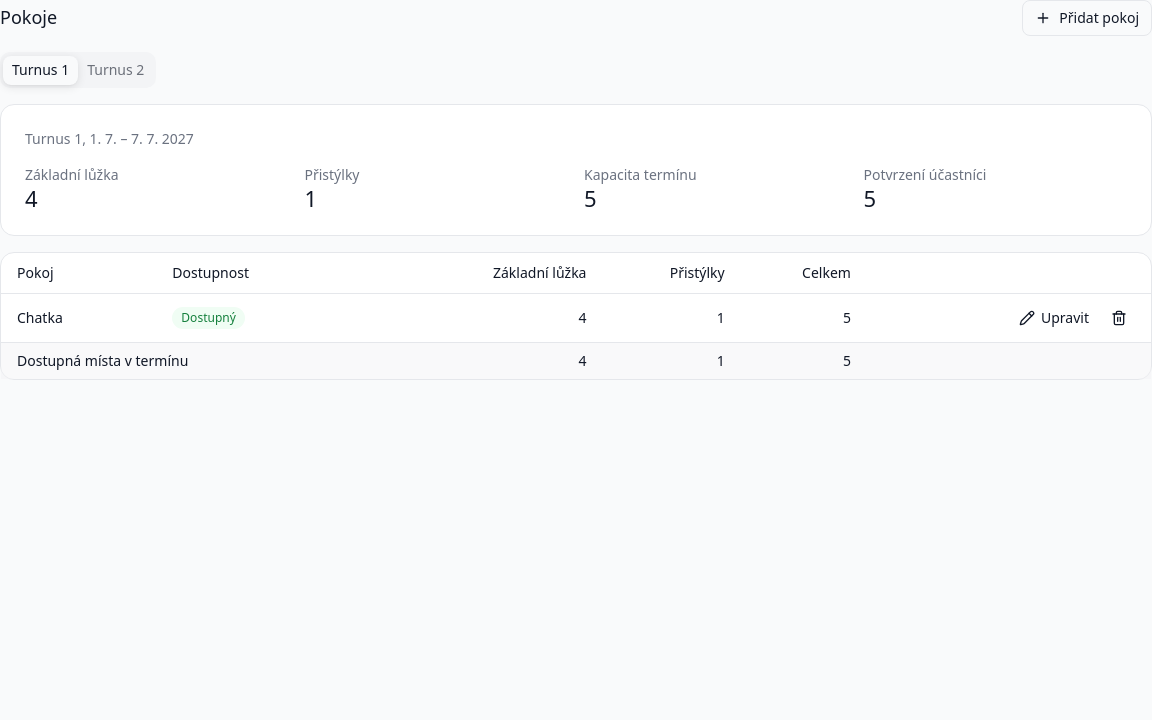
it: RoomsSection › keeps the picked term after a room is saved
Click the tab "Turnus 2" at (116, 70), box [78,56,153,84]
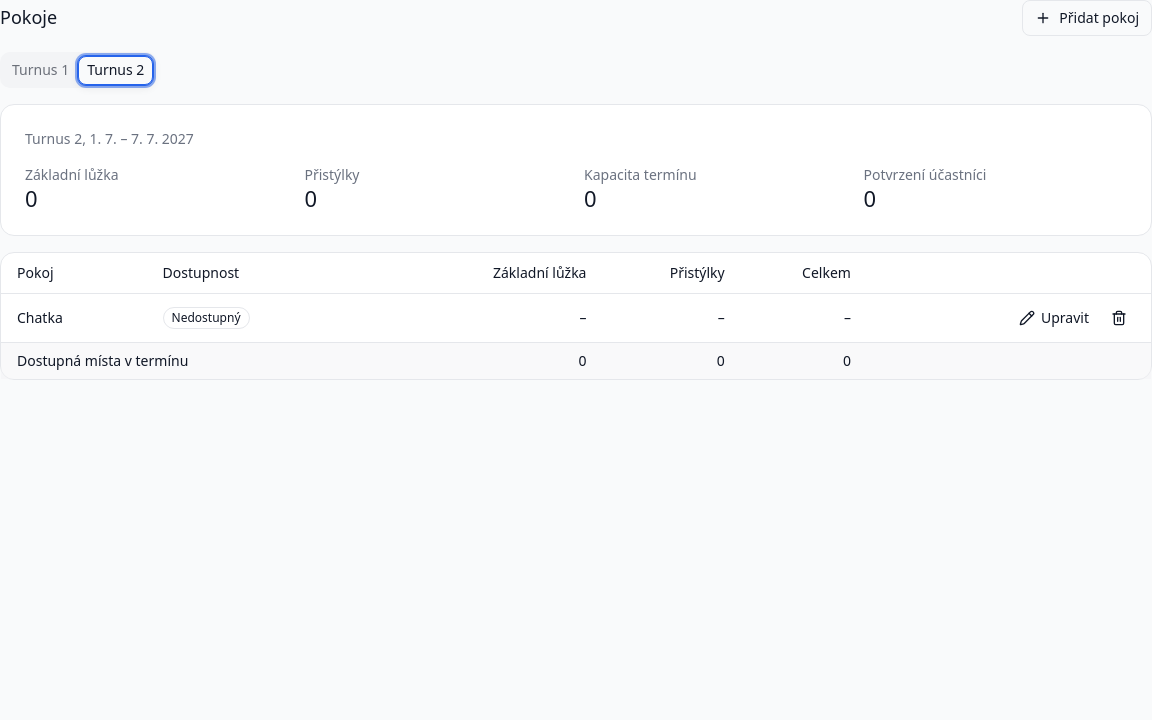
Click the button with aria-label "Upravit pokoj Chatka" at (1054, 318), box [1009,302,1099,334]
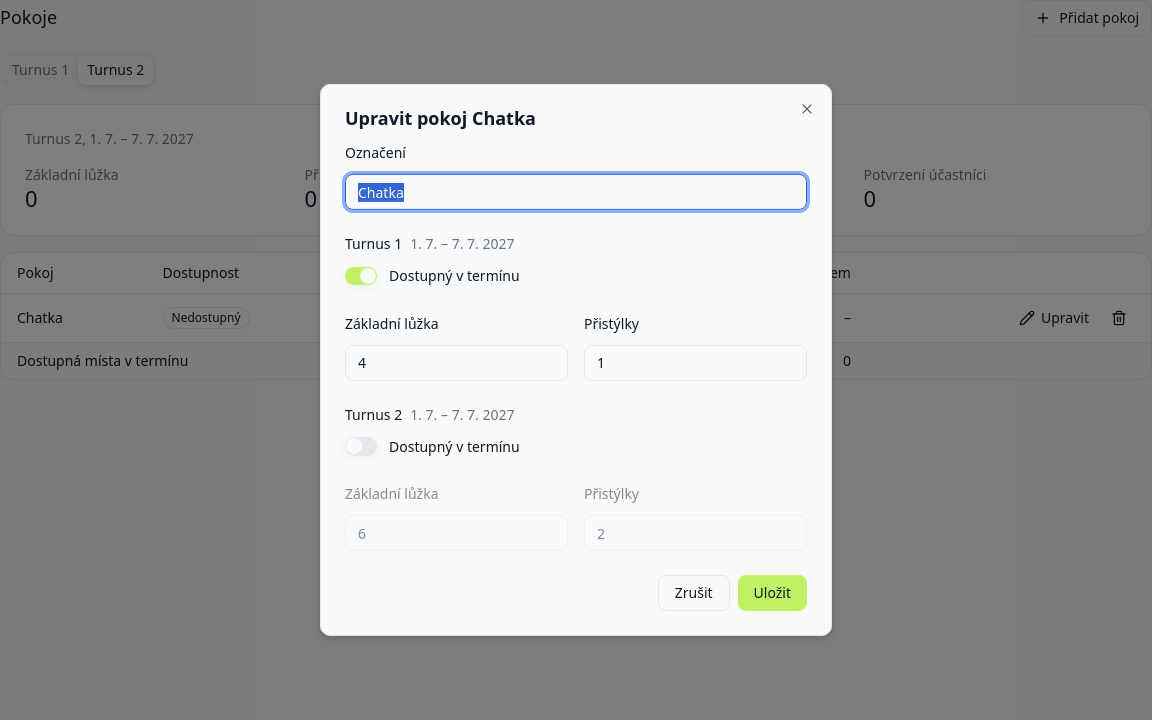
Click the button "Uložit" at (772, 593), box [738,575,807,611]
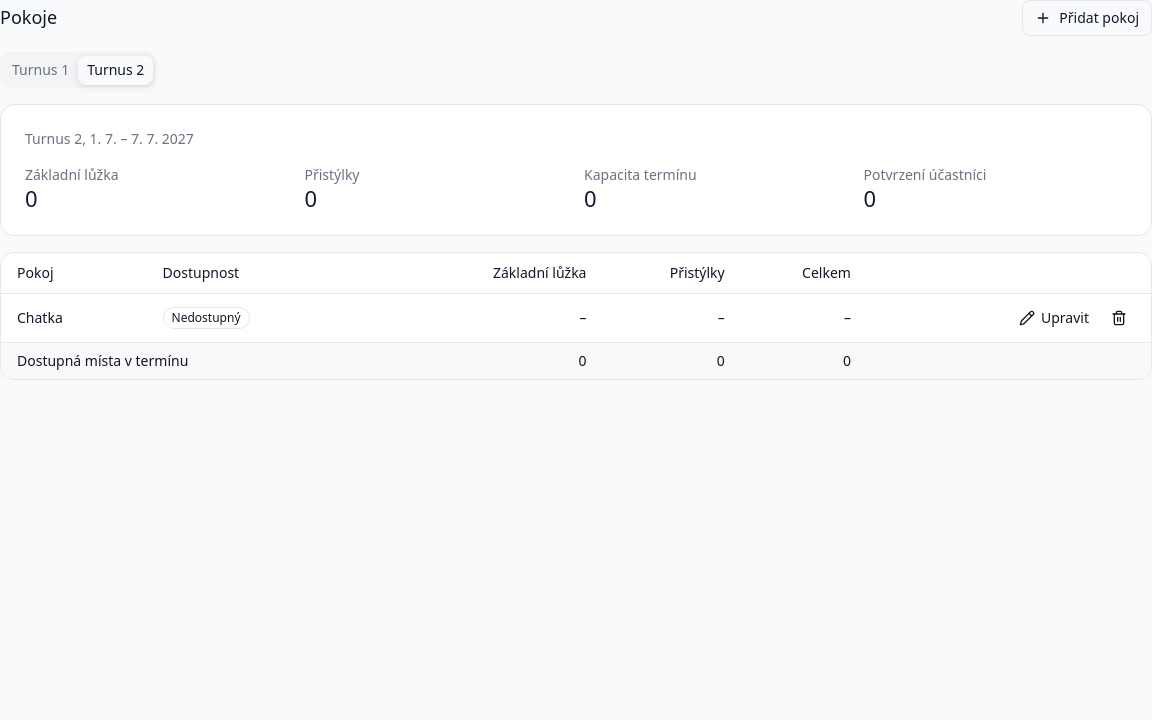
Now the dialog is gone
